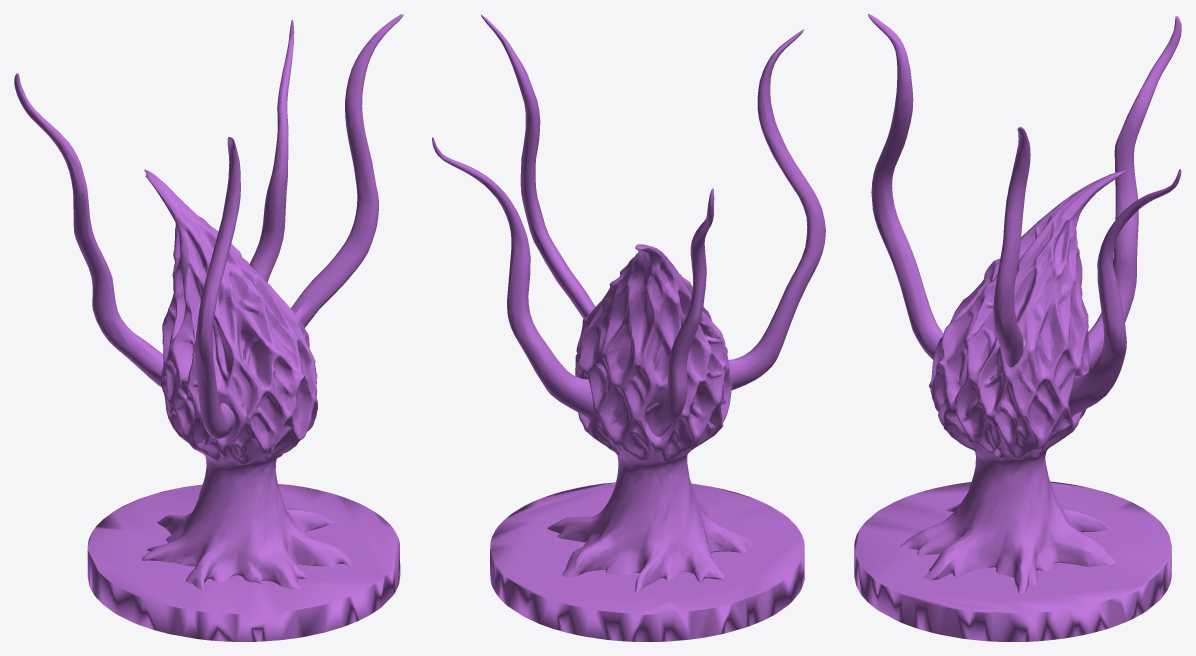
Rendered from violet-fungus.glb.
3 renders of one model, left to right at view 1: azimuth 30°, elevation 25°; view 2: azimuth 150°, elevation 25°; view 3: azimuth 270°, elevation 25°, orthographic.
Parts seen in each view (by area): view 1: violet-fungus; view 2: violet-fungus; view 3: violet-fungus.
Part boxes in pixels (box(x1,y1,x2,y2)): violet-fungus: box(14, 14, 403, 641); violet-fungus: box(432, 14, 825, 641); violet-fungus: box(854, 14, 1181, 641).
Bounding box in the file's own units: 28.93 × 46.35 × 26.06.
